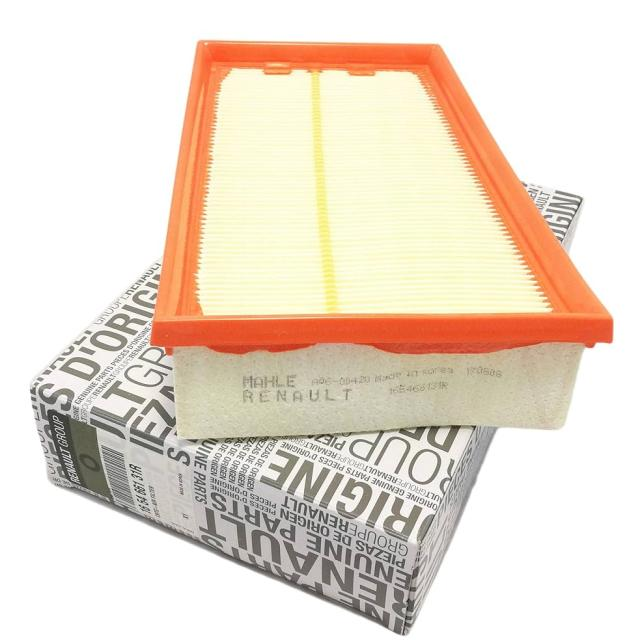air_filter: (147, 34, 618, 434)
